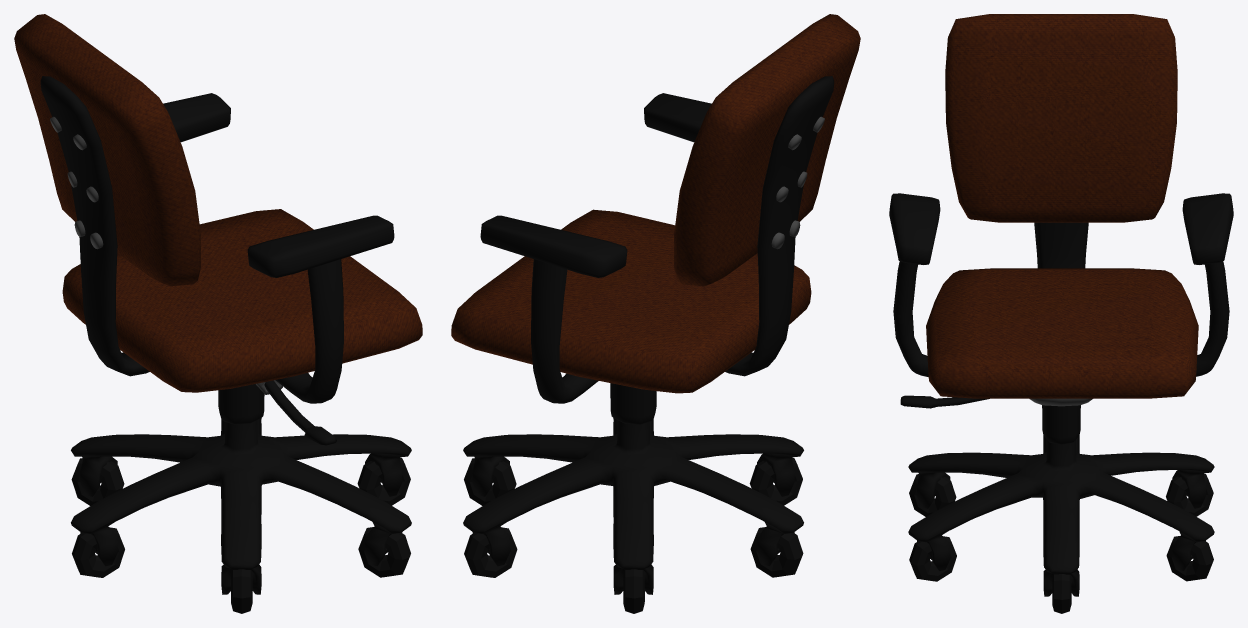
File: chair_test.fbx
3 renders of one model, left to right at view 1: azimuth 30°, elevation 25°; view 2: azimuth 150°, elevation 25°; view 3: azimuth 270°, elevation 25°, orthographic. The views are drawn at different scales.
Parts seen in each view (by area): view 1: Cube.010; view 2: Cube.010; view 3: Cube.010.
Boxes of the visible parts, x1,y1,x2,y2 form: Cube.010: (14, 14, 422, 613); Cube.010: (451, 14, 860, 613); Cube.010: (889, 14, 1233, 613).
Size of the model in its own units: 73.1 by 103 by 68.2.
1 material, 1 textured.
